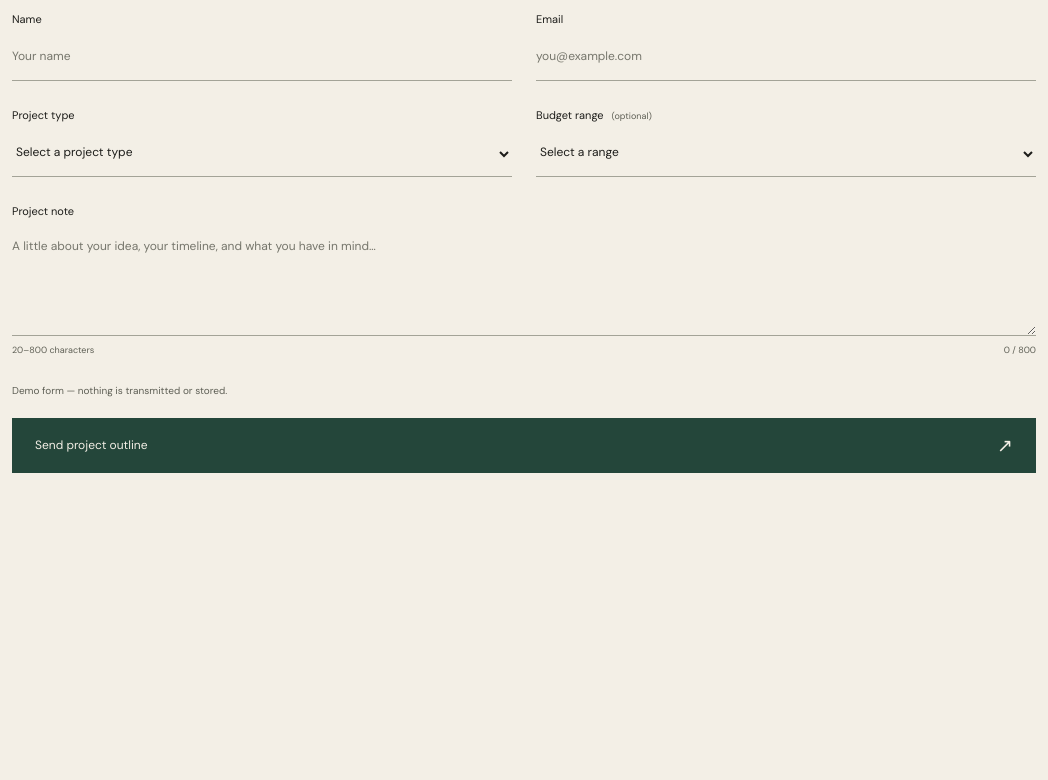
invalid inquiry announces errors and focuses the first invalid control
Click the button "Send project outline ↗".
click(91, 445)  # box [12,418,1036,472]
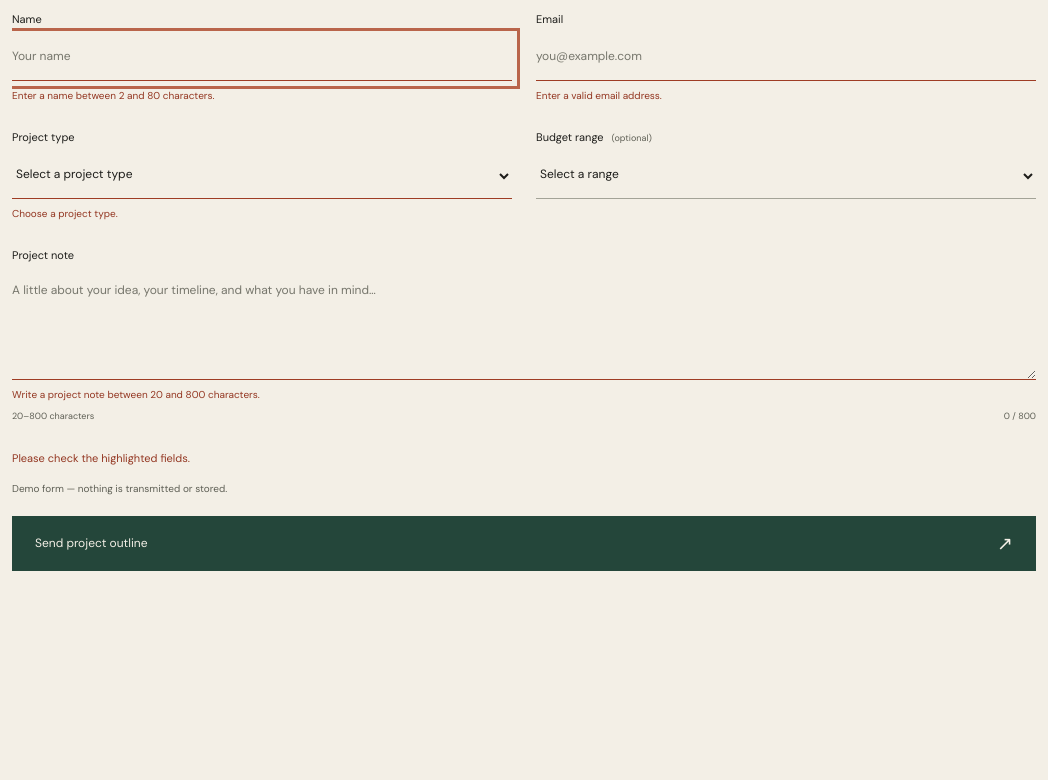
Expected: the message shows "check", [12,451,190,465]
